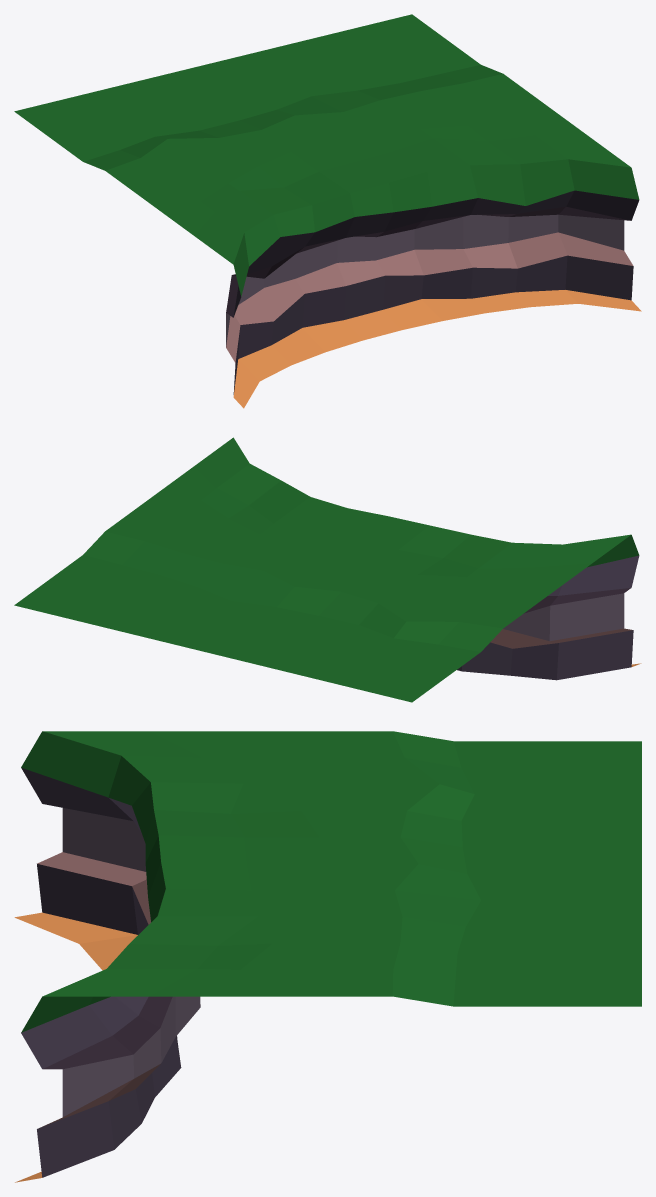
Rendered from Barranco_a_Playa_Concavo.fbx.
The picture shows the model from 3 angles, top to bottom: view 1: azimuth 30°, elevation 25°; view 2: azimuth 150°, elevation 25°; view 3: azimuth 270°, elevation 25°; orthographic projection. The views are drawn at different scales.
Parts seen in each view (by area): view 1: Barranco_a_Playa_Concavo; view 2: Barranco_a_Playa_Concavo; view 3: Barranco_a_Playa_Concavo.
Part boxes in pixels (bbox=[...]): Barranco_a_Playa_Concavo: bbox=[14, 14, 641, 408]; Barranco_a_Playa_Concavo: bbox=[14, 437, 641, 702]; Barranco_a_Playa_Concavo: bbox=[14, 731, 641, 1182].
Size of the model in its own units: 2000 by 662 by 2000.
